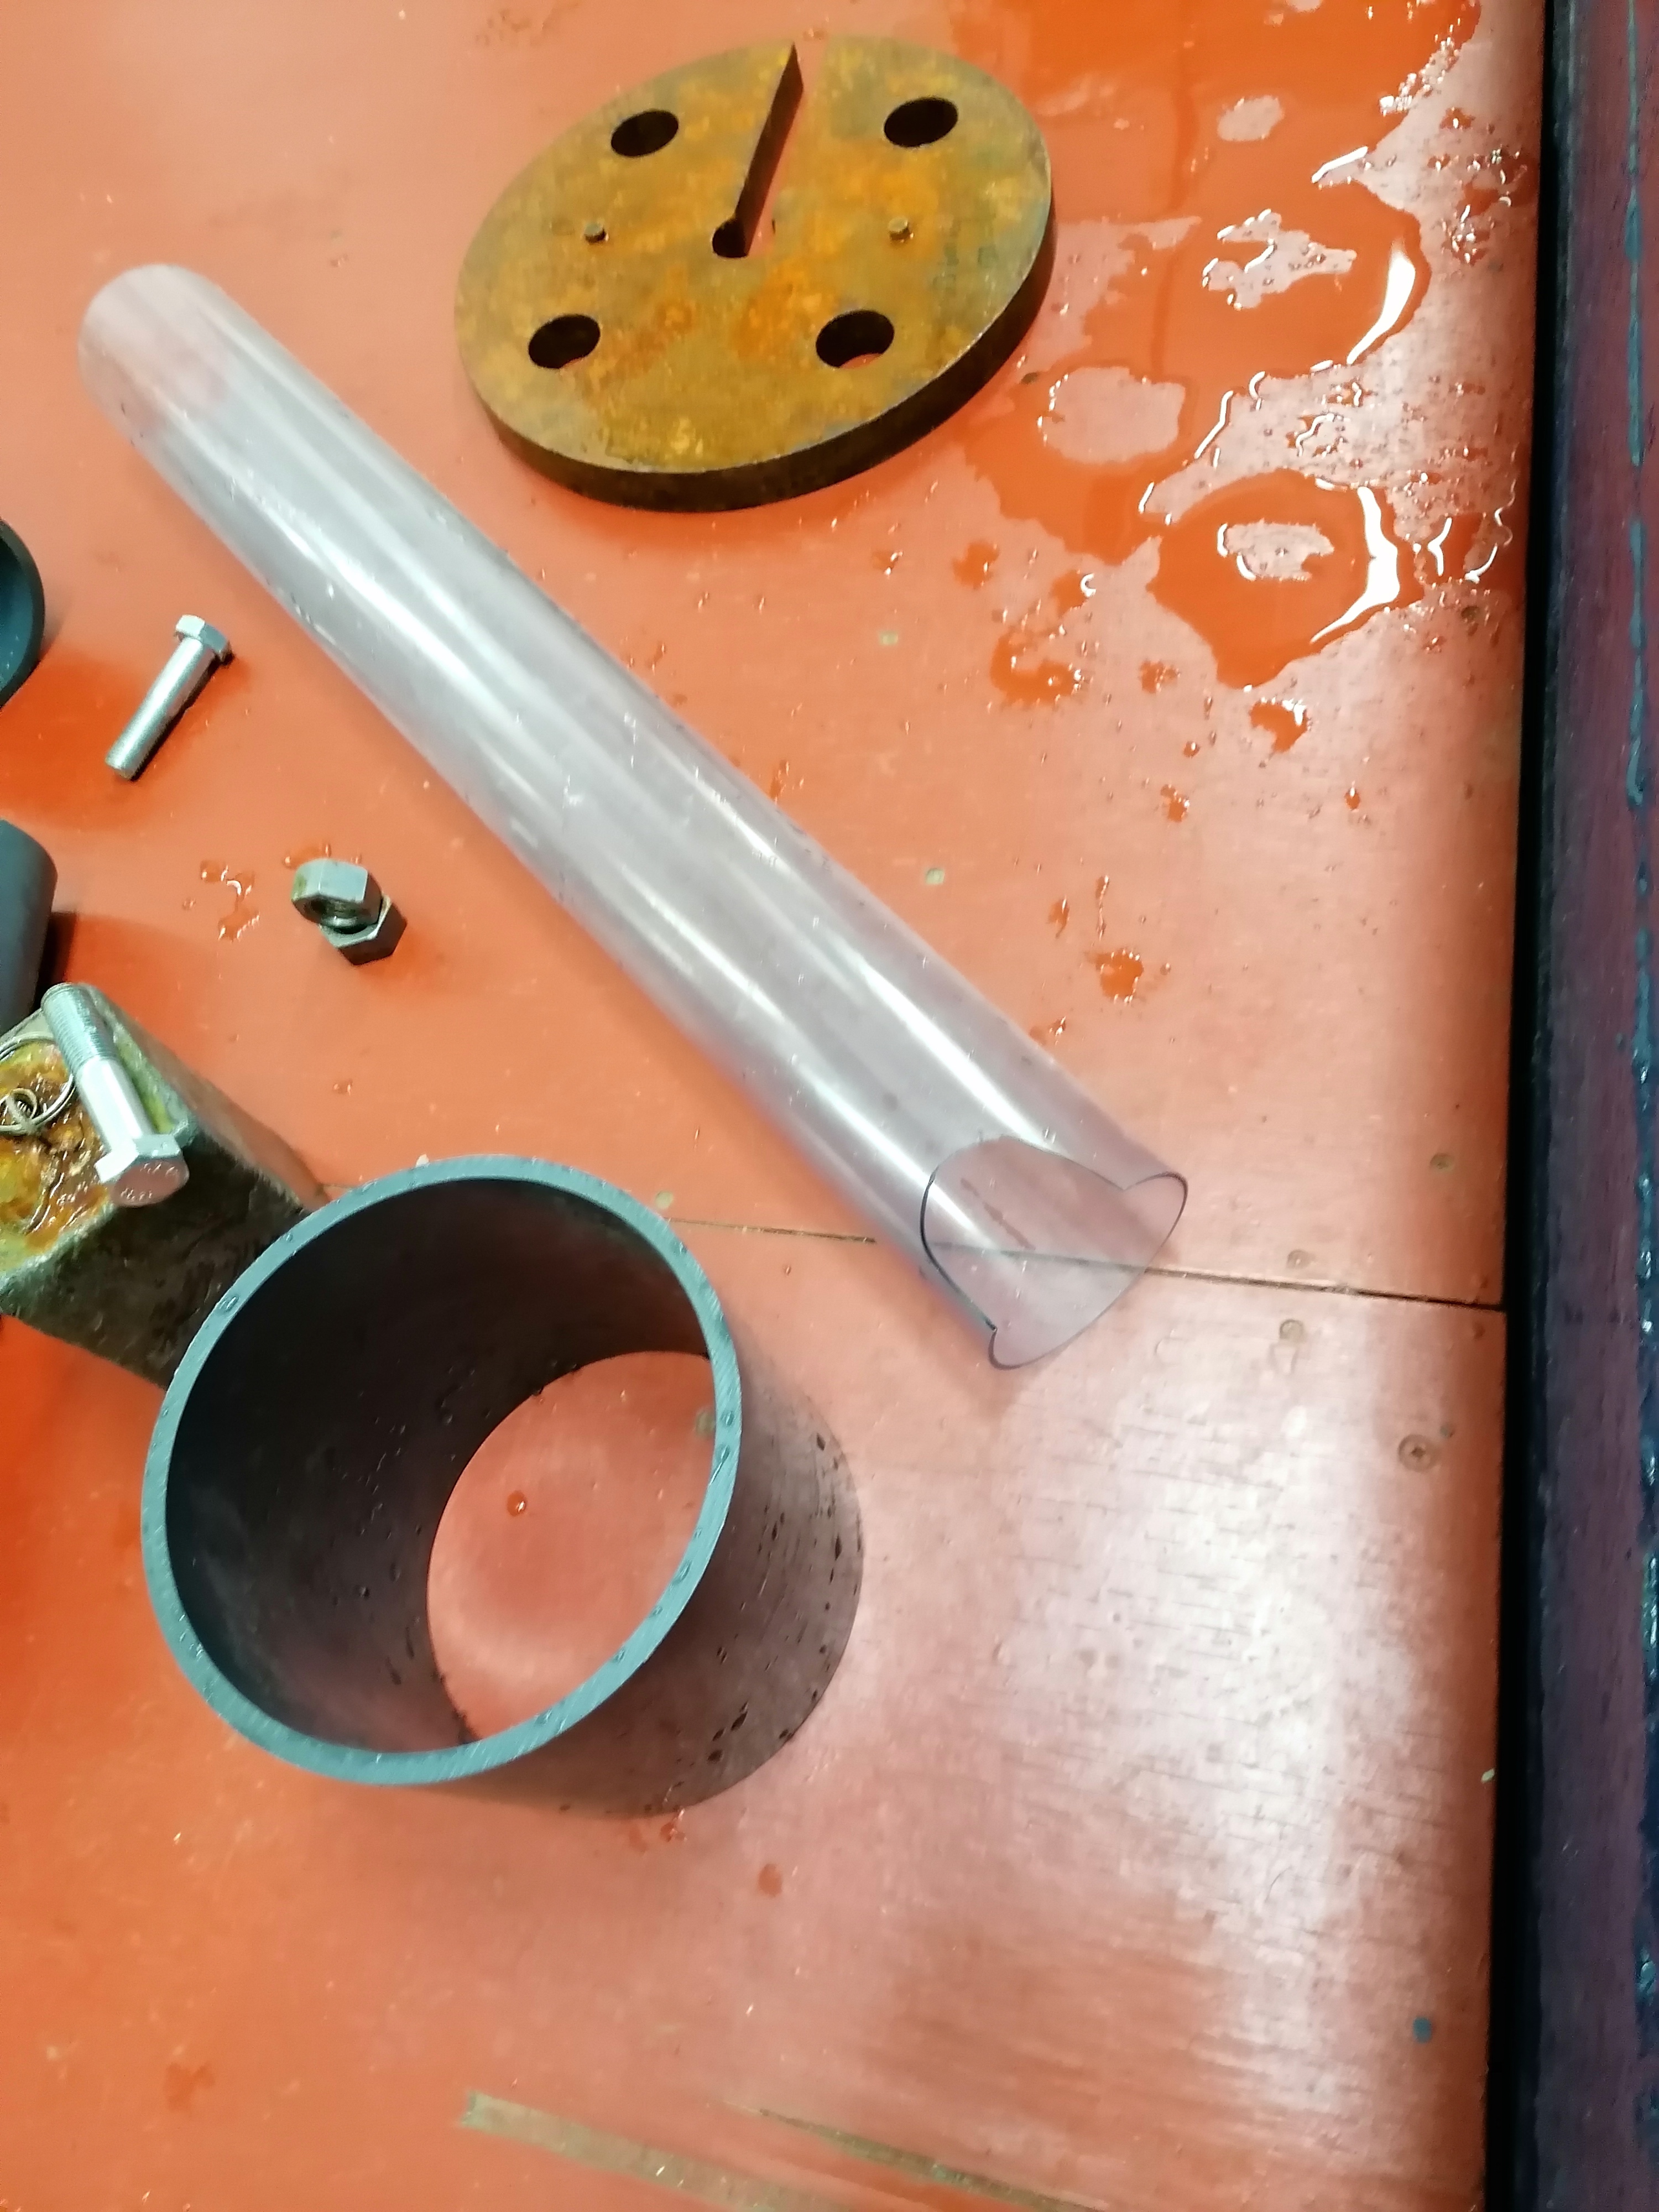bolt: (40, 981, 190, 1209), (106, 613, 234, 782)
flange: (457, 33, 1061, 512)
led_block: (0, 981, 326, 1383)
nut: (291, 857, 380, 928), (321, 894, 406, 967)
pipe: (77, 265, 1185, 1369), (132, 1158, 863, 1813), (0, 815, 58, 1040), (0, 509, 45, 707)
